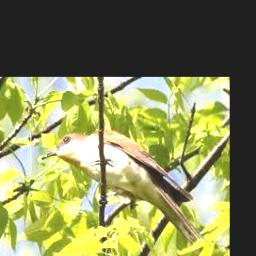Cuckoo: (41, 130, 209, 256)
